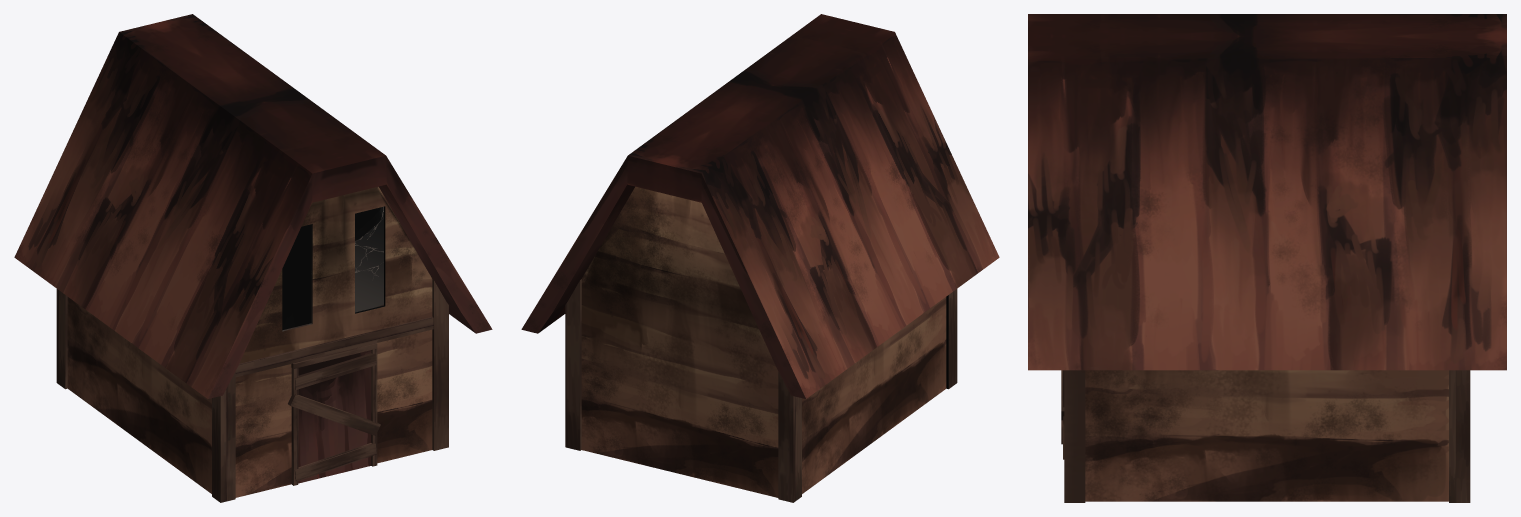
Rendered from House_03.fbx.
3 views of the same model, side by side, from view 1: azimuth 30°, elevation 25°; view 2: azimuth 150°, elevation 25°; view 3: azimuth 270°, elevation 25° (orthographic). The views are drawn at different scales.
Parts seen in each view (by area): view 1: House03; view 2: House03; view 3: House03.
Part boxes in pixels (box(x1,y1,x2,y2)): House03: box(14, 14, 492, 502); House03: box(521, 14, 999, 502); House03: box(1028, 14, 1506, 502).
Bounding box in the file's own units: 5.1 × 5.5 × 6.
Materials: 2 (2 with a texture image).
